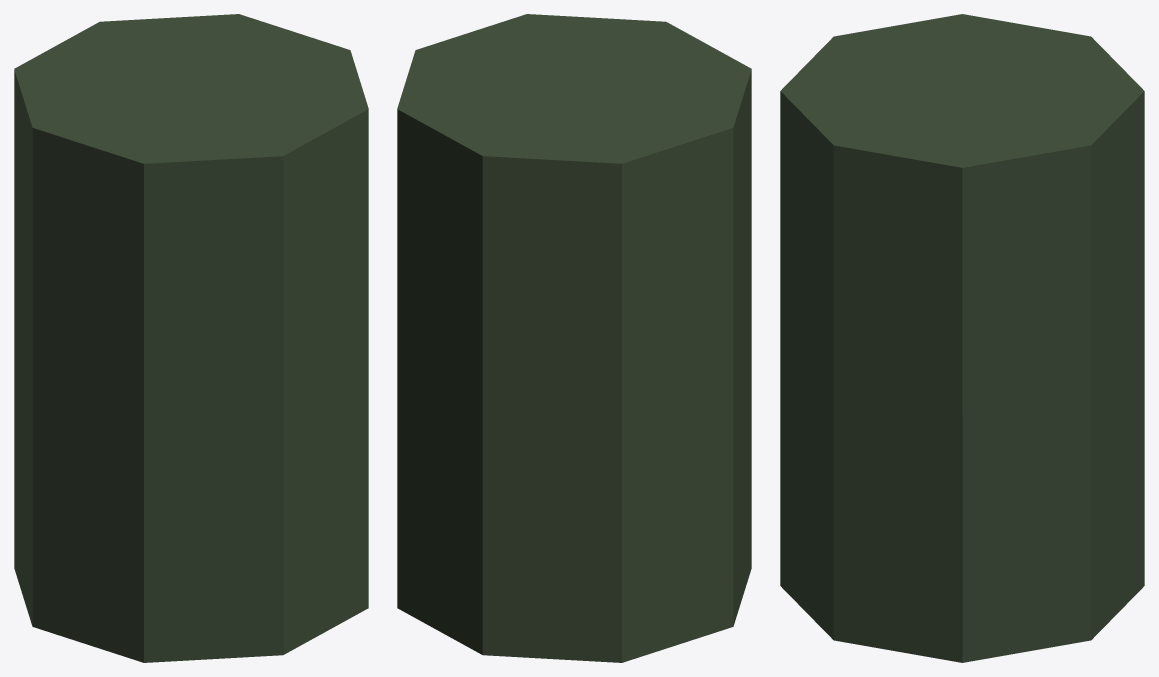
File: helmetStand.gltf
The picture shows the model from 3 angles, left to right: view 1: azimuth 30°, elevation 25°; view 2: azimuth 150°, elevation 25°; view 3: azimuth 270°, elevation 25°; orthographic projection.
Visible parts, largest first — view 1: helmet_stand; view 2: helmet_stand; view 3: helmet_stand.
Boxes of the visible parts, bbox=[...] form: helmet_stand: bbox=[14, 14, 368, 662]; helmet_stand: bbox=[397, 14, 751, 662]; helmet_stand: bbox=[780, 14, 1144, 662].
Size of the model in its own units: 1 by 1.5 by 1.
